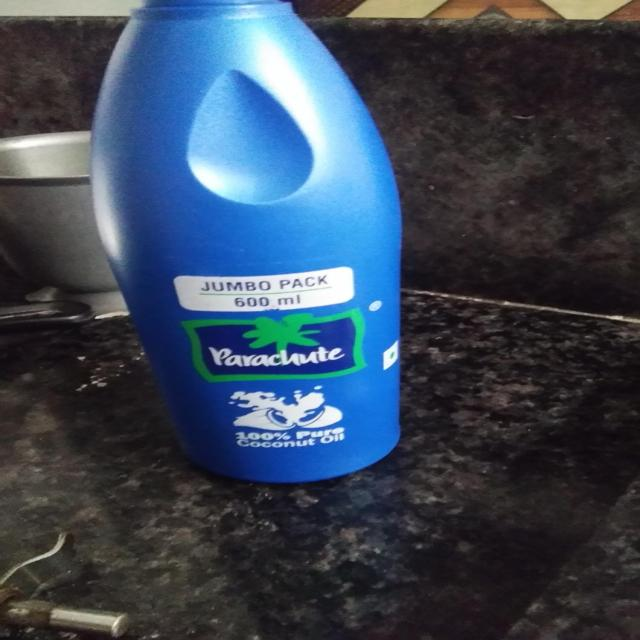parachute_oil: (37, 6, 459, 491)
